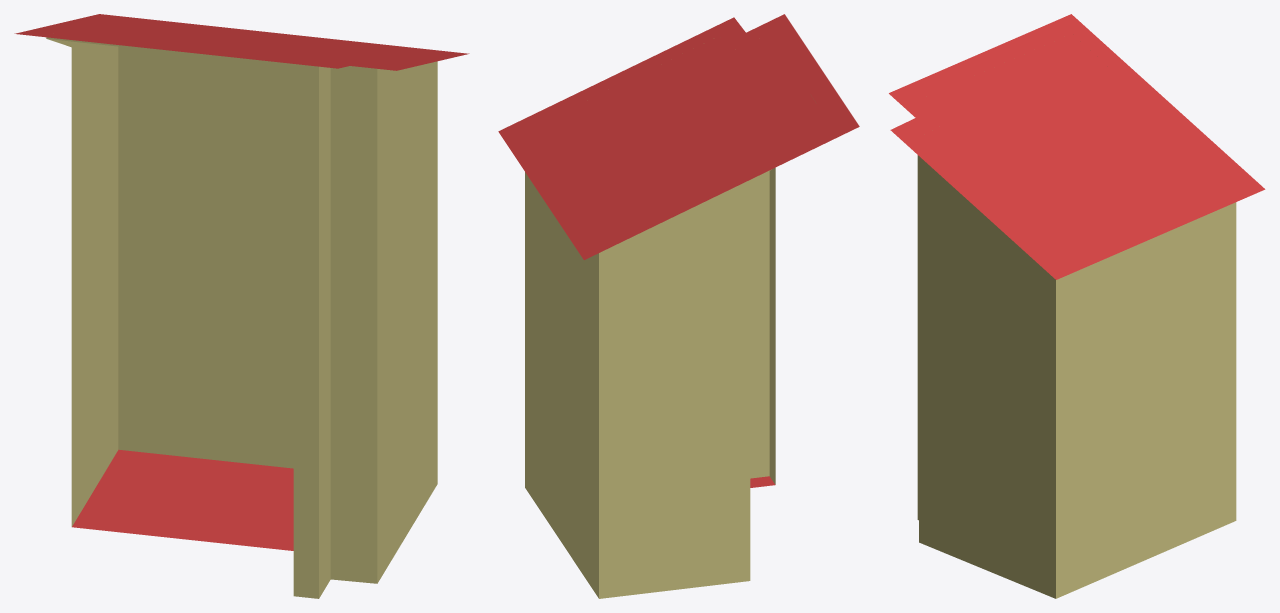
3 renders of one model, left to right at view 1: azimuth 30°, elevation 25°; view 2: azimuth 150°, elevation 25°; view 3: azimuth 270°, elevation 25°, orthographic. The views are drawn at different scales.
Bounding box in the file's own units: 9.76 × 9.12 × 11.38.
